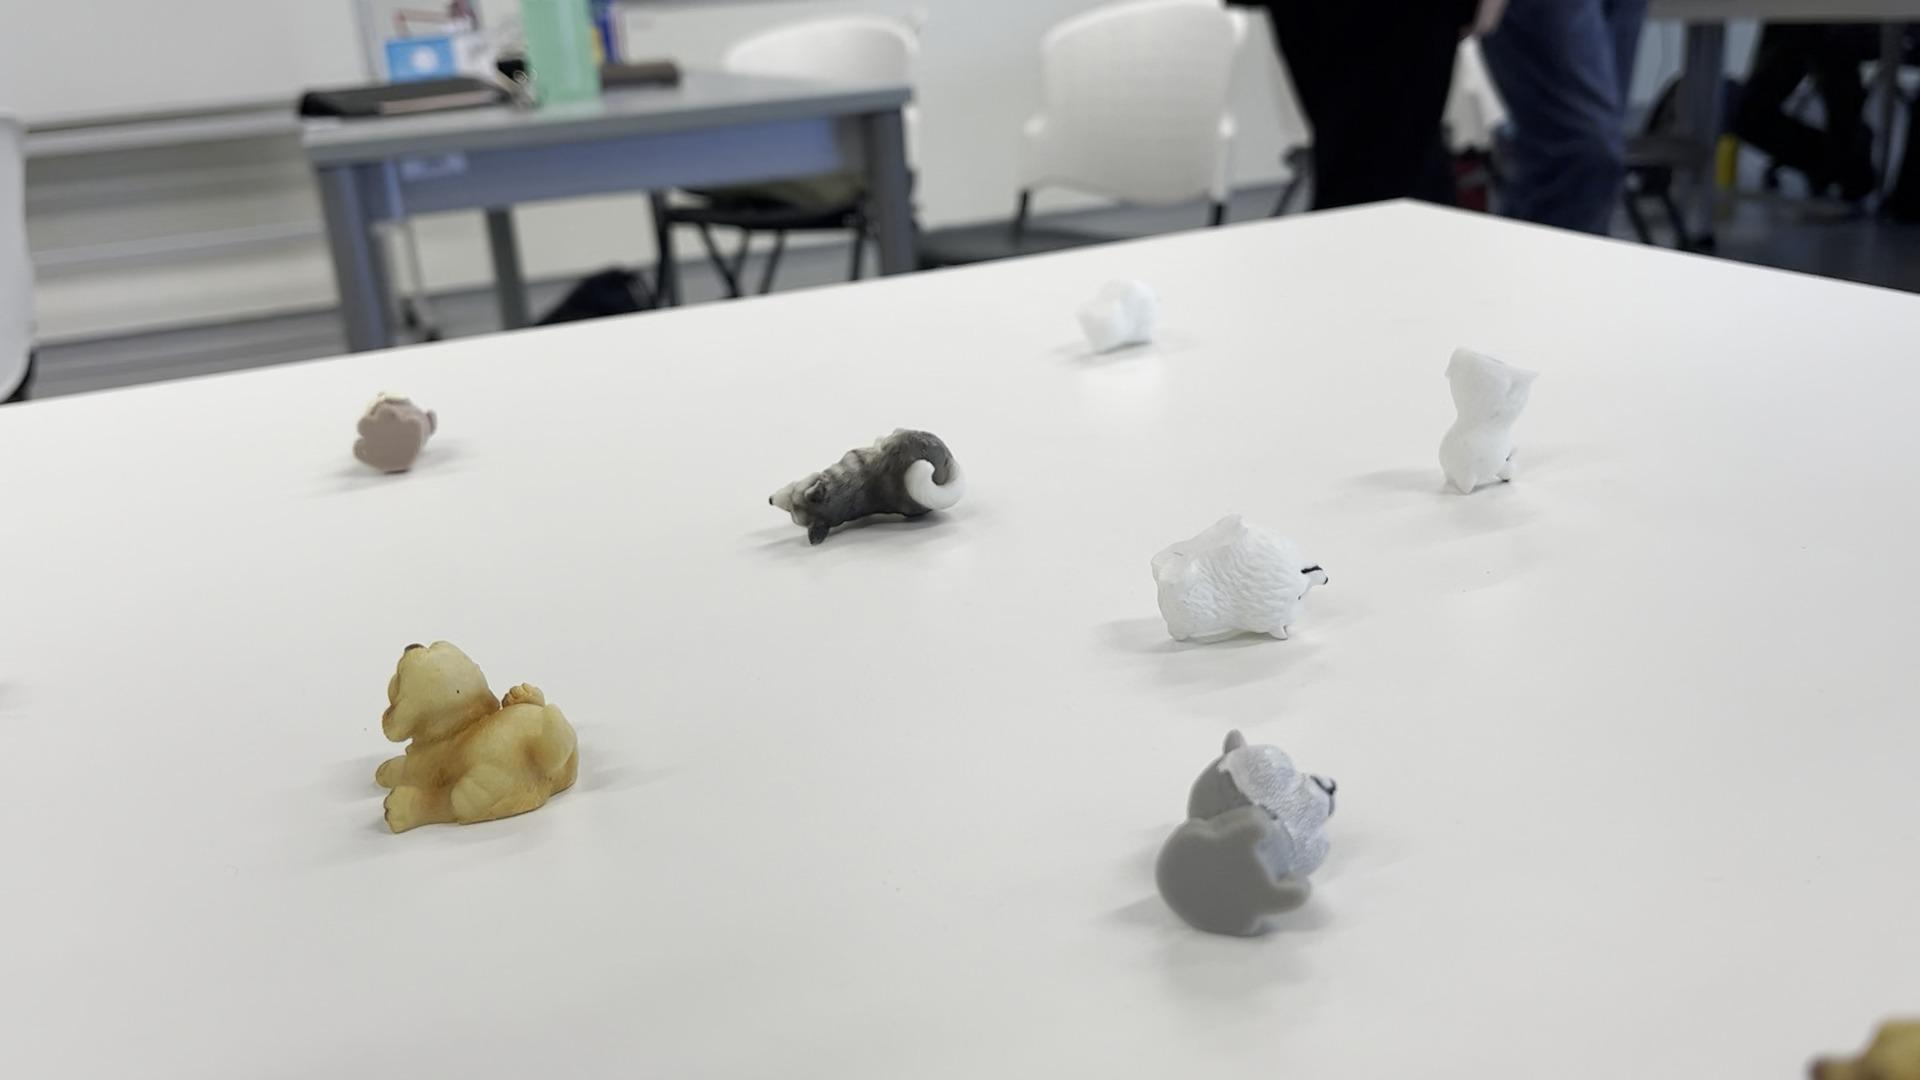pet: (1141, 716, 1362, 959), (361, 625, 587, 848), (1147, 509, 1345, 669), (761, 402, 976, 533), (1428, 335, 1538, 520), (1075, 269, 1180, 371), (351, 385, 456, 481)
